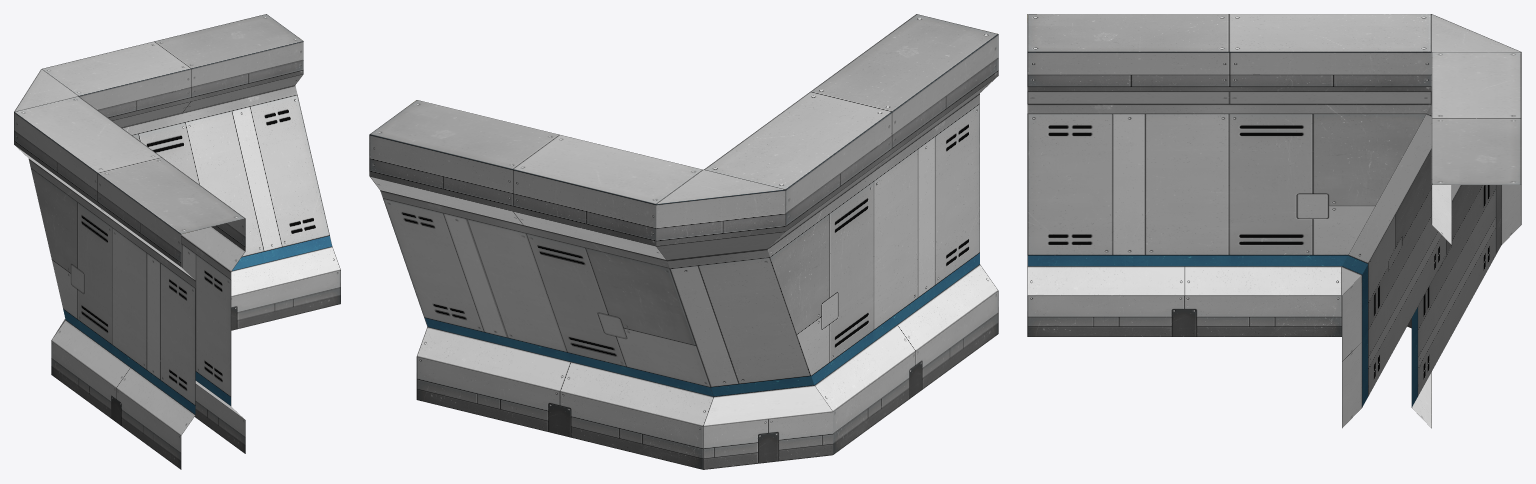
Rendered from Corner_Short_Left_03.FBX.
The picture shows the model from 3 angles, left to right: view 1: azimuth 30°, elevation 25°; view 2: azimuth 150°, elevation 25°; view 3: azimuth 270°, elevation 25°; orthographic projection. The views are drawn at different scales.
Visible parts, largest first — view 1: Corner_Short_Left_03; view 2: Corner_Short_Left_03; view 3: Corner_Short_Left_03.
Part boxes in pixels (box(x1,y1,x2,y2)): Corner_Short_Left_03: box(14, 14, 340, 469); Corner_Short_Left_03: box(369, 14, 998, 469); Corner_Short_Left_03: box(1027, 14, 1521, 428).
Bounding box in the file's own units: 180 × 140 × 220.
